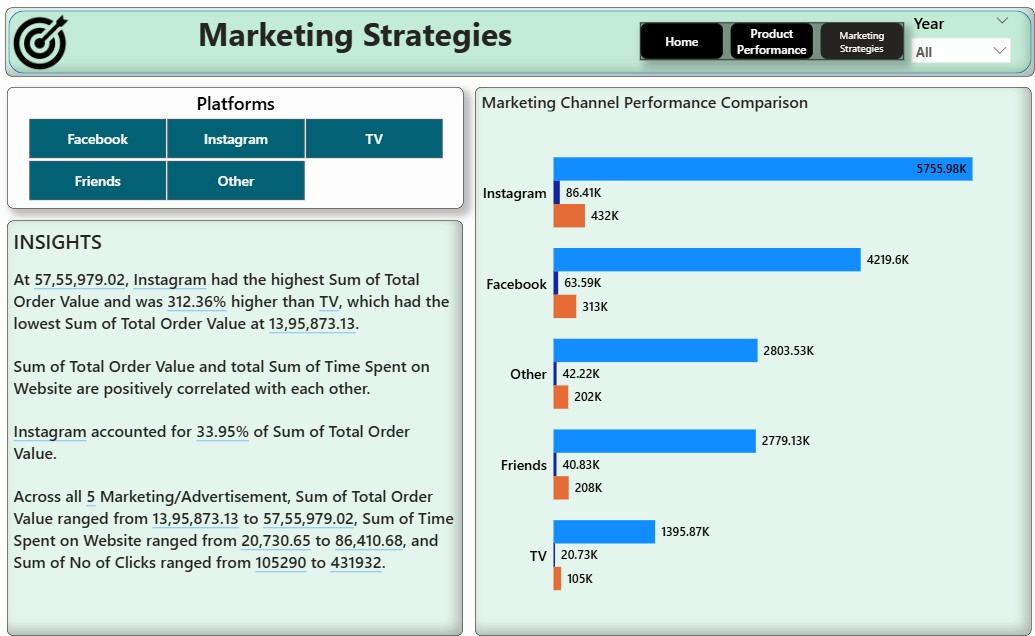

What the dashboard file says about the page in this screenshot:
{"tool":"powerbi","page":{"name":"Marketing Strategies","canvas":[1400,870],"ordinal":2},"visuals":[{"type":"clusteredBarChart","title":"Marketing Channel Performance Comparison","fields":{"Category":["Dmart+Dataset_Tableau.Marketing/Advertisement"],"Y":["Sum(Dmart+Dataset_Tableau.Total Order Value)","Sum(Dmart+Dataset_Tableau.Time Spent on Website)","Sum(Dmart+Dataset_Tableau.No of Clicks)"]},"box":[640,120,742,732],"z":0},{"type":"textbox","box":[16,298,608,554],"z":1000},{"type":"slicer","title":"Platforms","fields":{"Values":["Dmart+Dataset_Tableau.Marketing/Advertisement"]},"box":[15,120,608.3,161.7],"z":2000},{"type":"shape","box":[14,14,1372,92],"z":3000},{"type":"textbox","box":[150,14,660,76],"z":4000},{"type":"slicer","fields":{"Values":["Dmart+Dataset_Tableau.Year_1"]},"box":[1212,14,152,106],"z":5000},{"type":"image","box":[16,14,90,92],"z":6000},{"type":"pageNavigator","box":[860,34,352,50],"z":7000}]}

Visuals, with their boxes in screenshot pixels (x1, y1, x2, y2), scaled from the page's 1400x870 canvas onto the 1035x636 screenshot:
"Marketing Channel Performance Comparison" clusteredBarChart: 473:88:1022:623
textbox: 12:218:461:623
"Platforms" slicer: 11:88:461:206
shape: 10:10:1025:77
textbox: 111:10:599:66
slicer - Dmart+Dataset_Tableau.Year_1: 896:10:1008:88
image: 12:10:78:77
pageNavigator: 636:25:896:61
